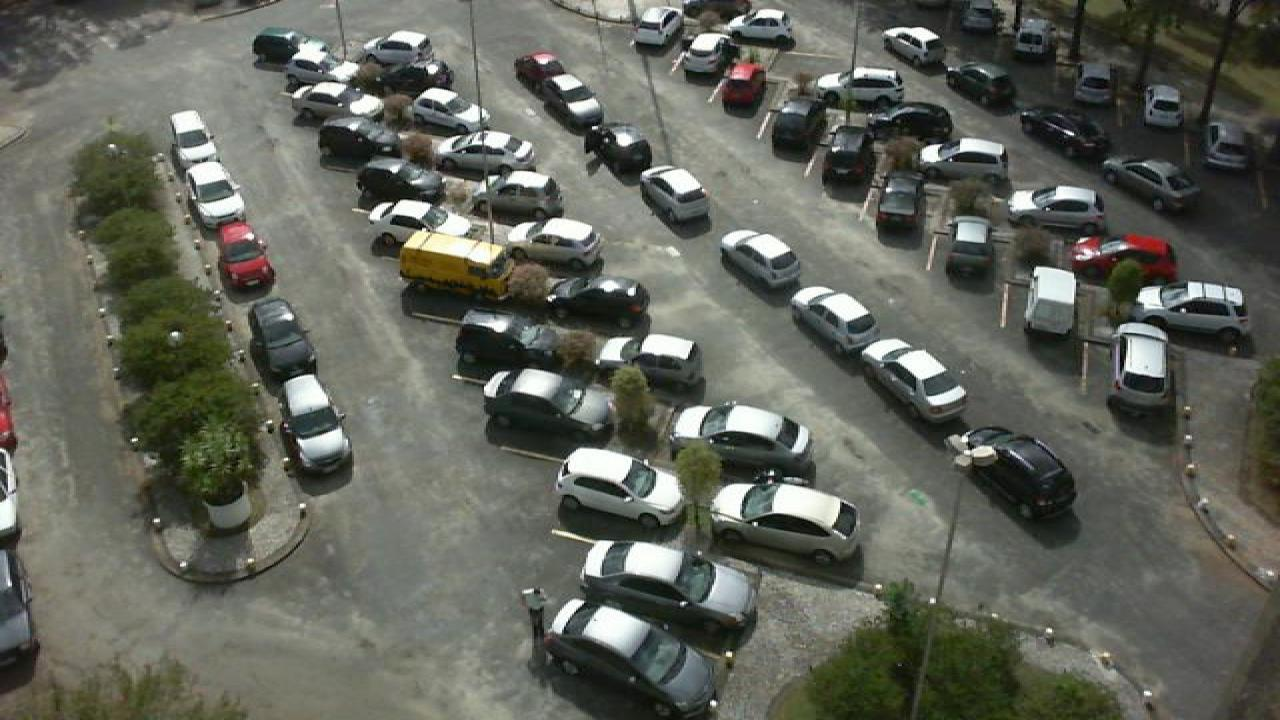Car: (538, 596, 718, 719), (572, 538, 760, 636), (704, 478, 866, 563), (666, 402, 816, 482), (958, 426, 1080, 524), (552, 446, 688, 528), (480, 367, 618, 442), (860, 336, 972, 424), (278, 372, 352, 475), (1136, 278, 1254, 341), (452, 307, 564, 371), (790, 286, 886, 356), (1110, 322, 1180, 416), (594, 332, 708, 389), (1066, 234, 1182, 287), (494, 216, 606, 269), (248, 296, 318, 378), (716, 227, 808, 288), (1098, 155, 1200, 206), (1014, 104, 1110, 158), (550, 273, 652, 323), (1006, 182, 1110, 231), (1018, 263, 1082, 335), (352, 153, 446, 201), (364, 197, 462, 243), (316, 114, 406, 164), (436, 130, 538, 174), (638, 164, 714, 222), (482, 168, 566, 219), (918, 136, 1012, 181), (216, 220, 276, 290), (410, 84, 492, 135), (584, 120, 658, 176), (280, 80, 368, 127), (814, 65, 906, 109), (942, 61, 1022, 111), (866, 100, 956, 144), (536, 72, 606, 128), (186, 164, 246, 228), (874, 174, 930, 240), (166, 108, 224, 171), (942, 214, 998, 278), (768, 95, 822, 158), (820, 126, 874, 188), (880, 25, 952, 70), (362, 29, 436, 68), (726, 8, 796, 48), (380, 58, 456, 94), (512, 50, 570, 96), (284, 43, 346, 86), (720, 61, 768, 115), (678, 31, 728, 81), (634, 4, 688, 50), (1204, 119, 1252, 170), (1142, 82, 1190, 130), (250, 27, 310, 62), (1012, 16, 1058, 60), (1072, 62, 1116, 107), (960, 0, 1004, 36)
